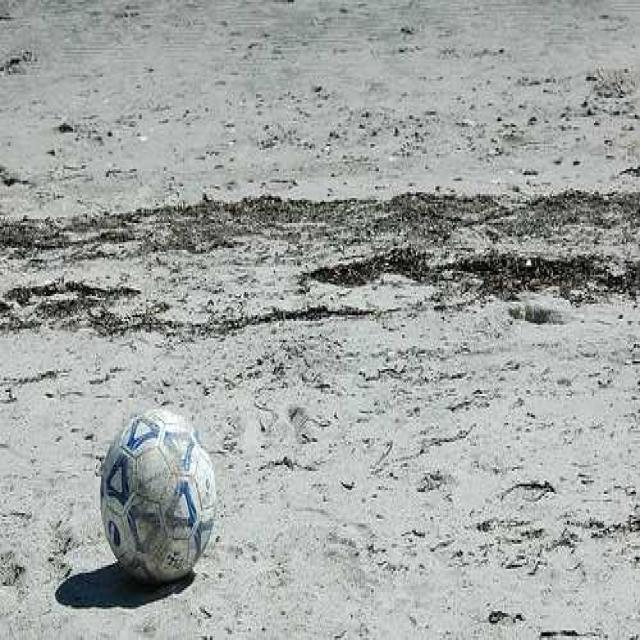ball: (100, 408, 216, 588)
